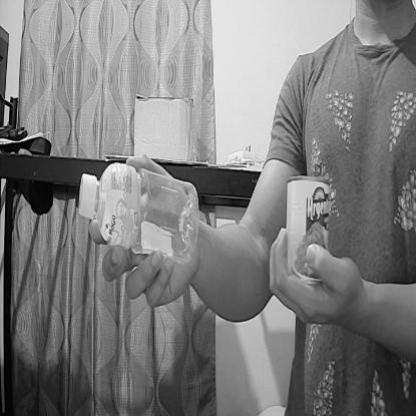Plastic Bottle: (70, 149, 204, 284)
